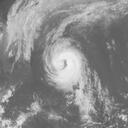cyclone: (41, 38, 88, 92)
